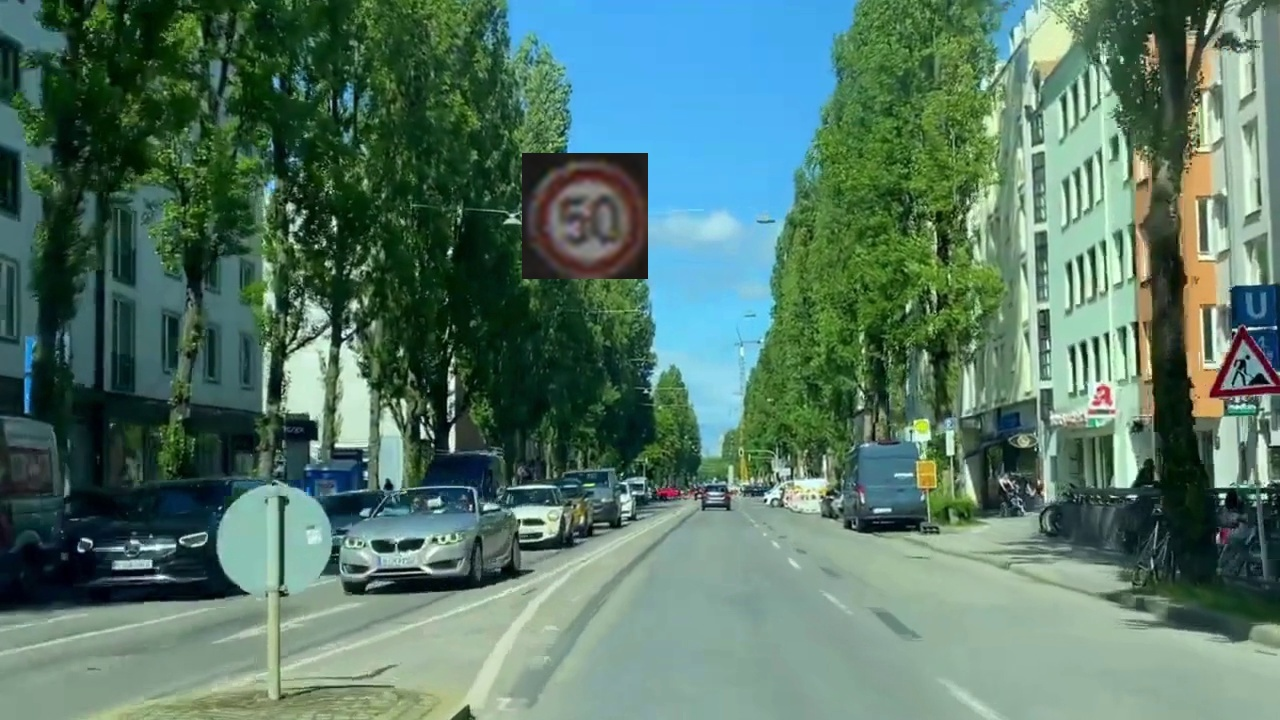Speed 50: (522, 153, 648, 279)
